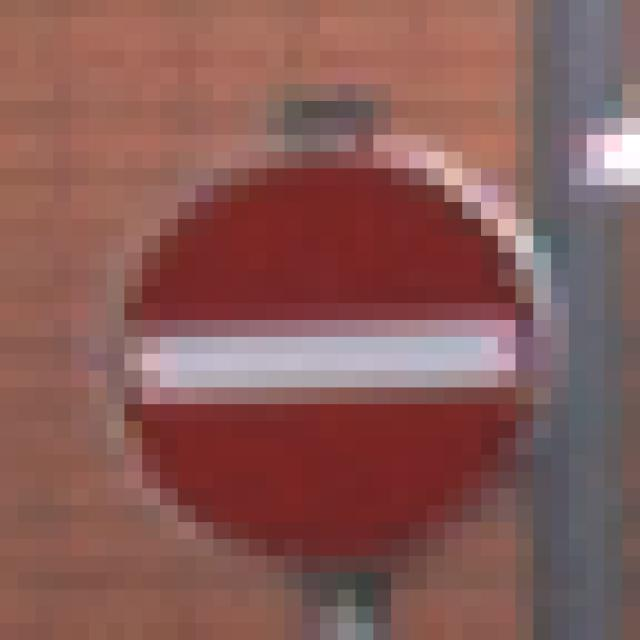No Entry: (90, 102, 552, 557)
